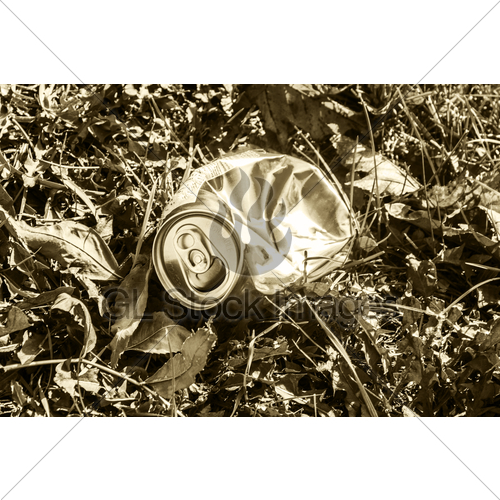can: (152, 145, 356, 309)
